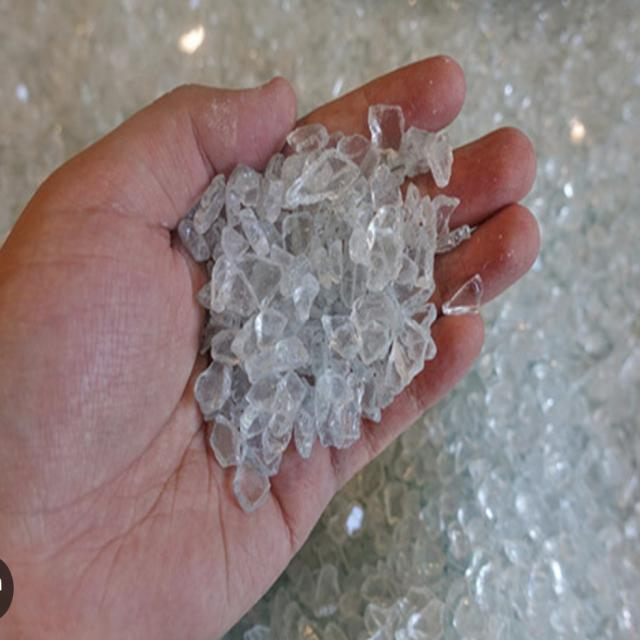PecahanKaca: (173, 101, 475, 513)
